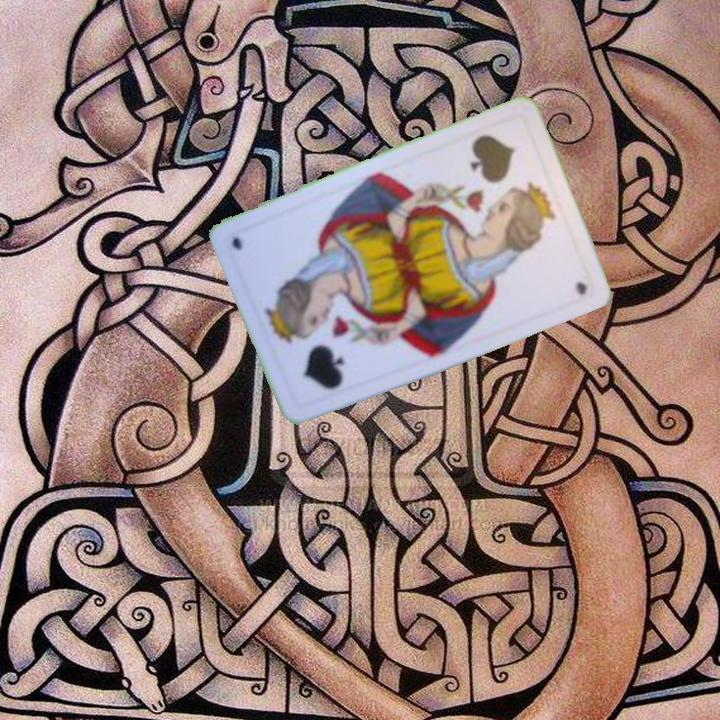s_q.png: (260, 288, 376, 412), (444, 113, 559, 236)
